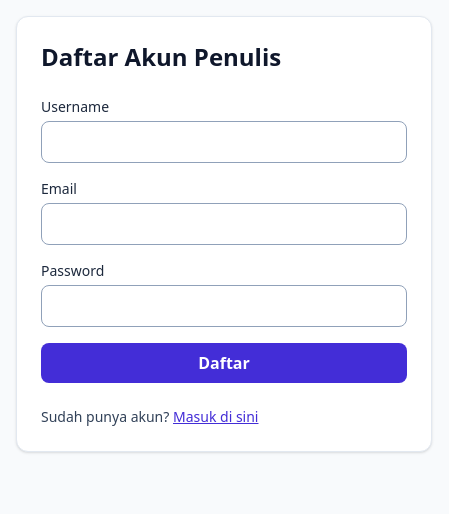
AuthPage (register) › menampilkan error dari server
Type "budi" into the field labelled "Username". click: {"x": 224, "y": 142}
box: [41,121,407,163]
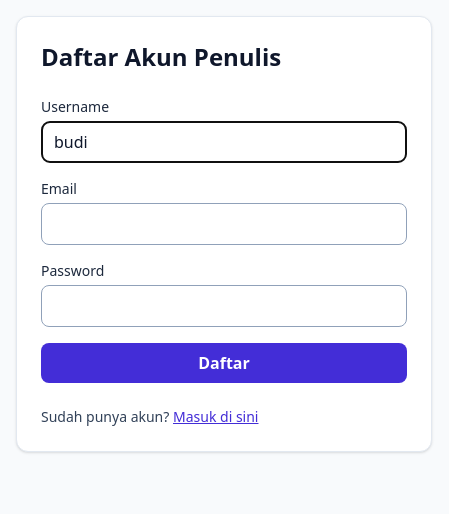
Type "budi@mail.test" into the field labelled "Email". click: {"x": 224, "y": 224}
box: [41,203,407,245]
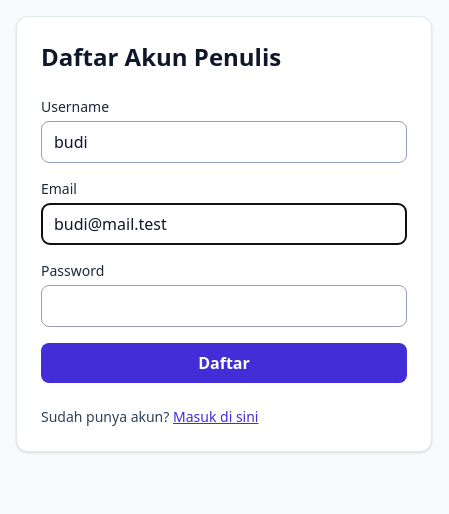
Type "rahasia" into the password field labelled "Password". click: {"x": 224, "y": 306}
box: [41,285,407,327]
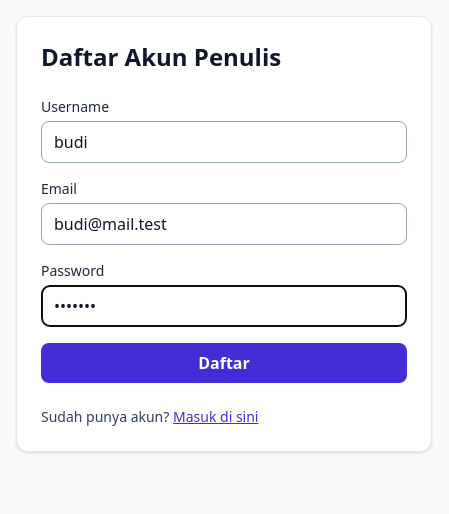
Click the button "Daftar". click: {"x": 224, "y": 363}
box: [41,343,407,383]
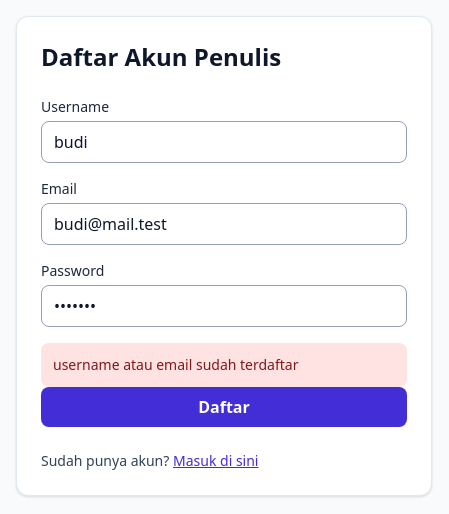
Expected: the message shows "sudah terdaftar", [53,355,298,374]
